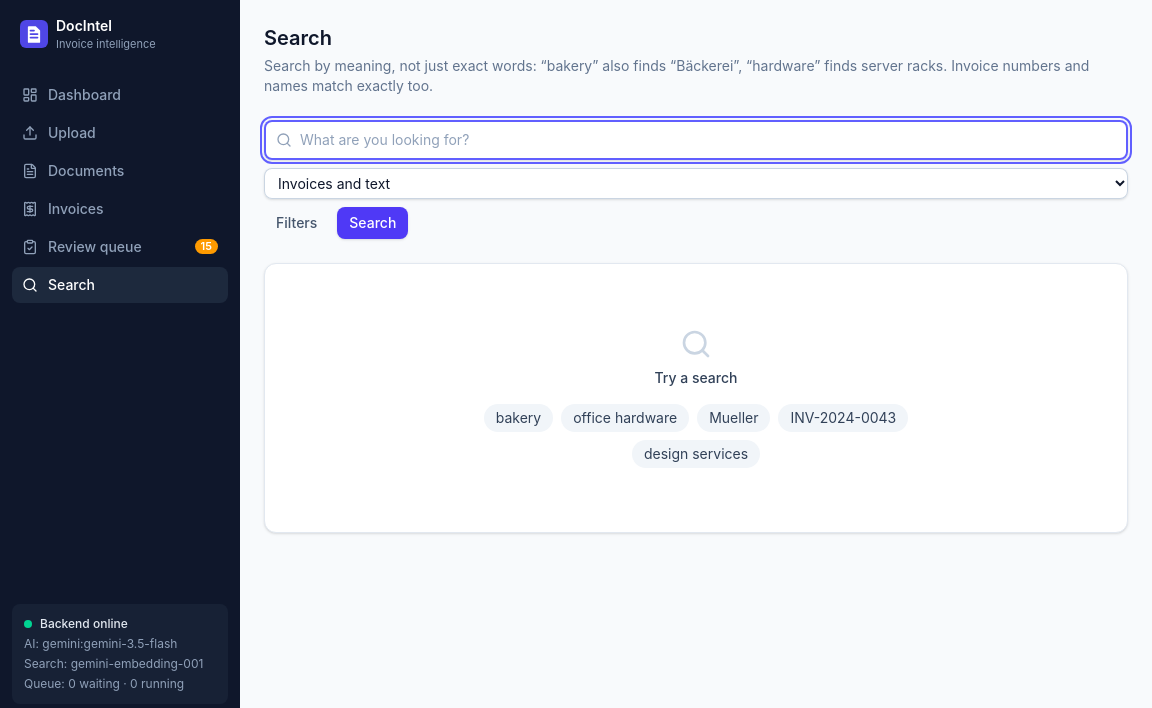
search › offers examples before anything is typed
This screenshot has width=1152, height=708.
Click the button "bakery": [518, 418] box [484,404,553,432]
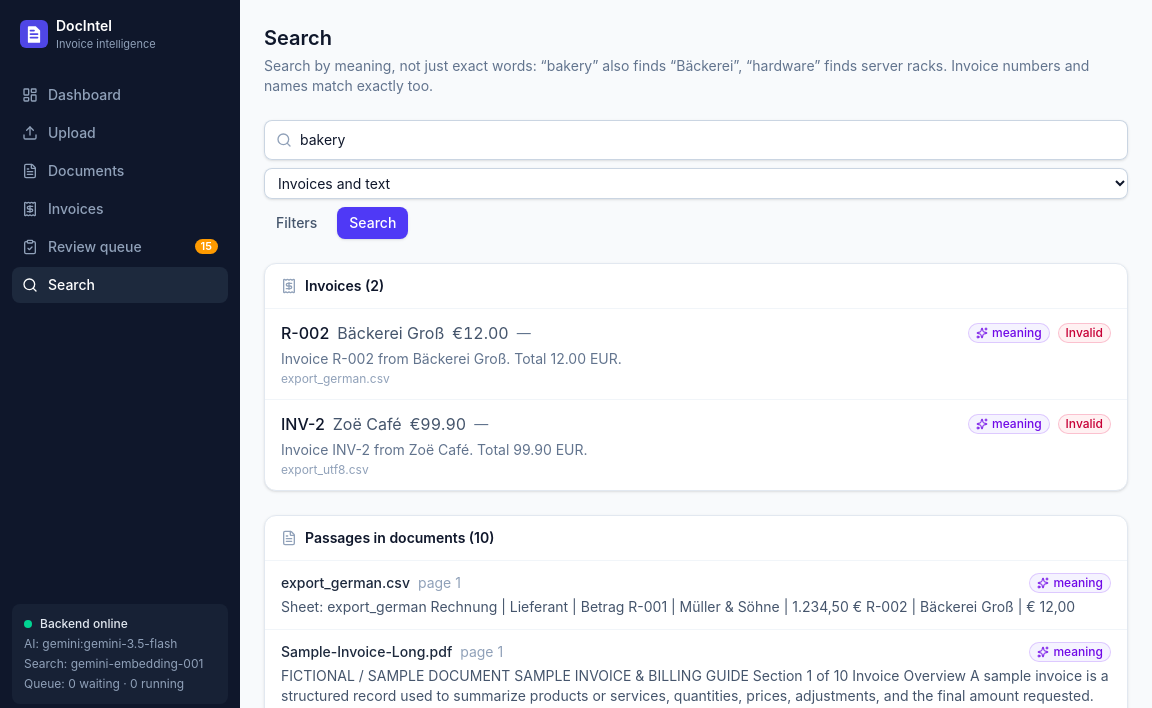
Expected: the text "Bäckerei Groß" is shown, [337,321,444,345]
